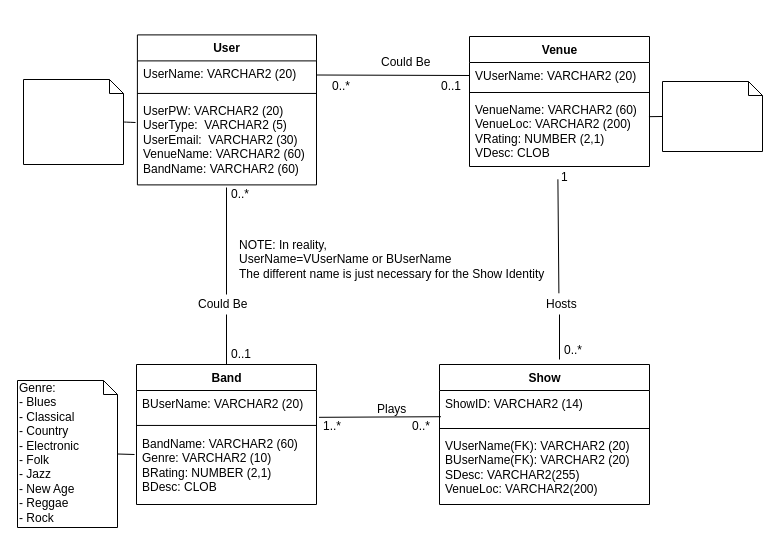
This 780x545 diagram has some shape labels left out. Each missing label, with the centre of its shape:
UserType: -Indiv -Admin -Band -Venue: point (73, 121)
VenueLoc: Stores Google's Place IDs: point (712, 116)
